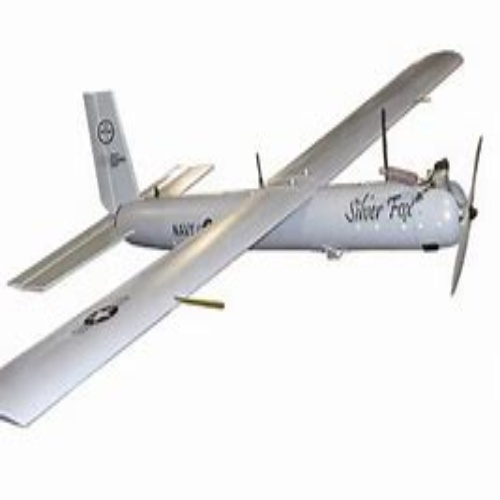uav: (3, 52, 486, 417)
